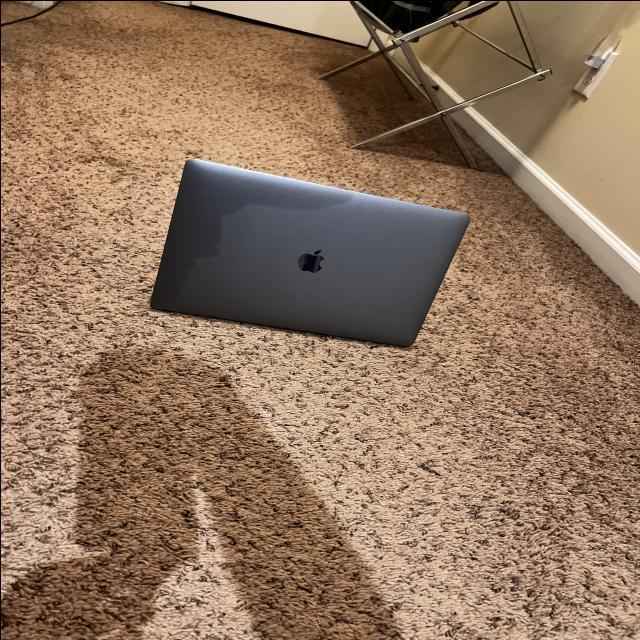laptop: (148, 157, 472, 354)
